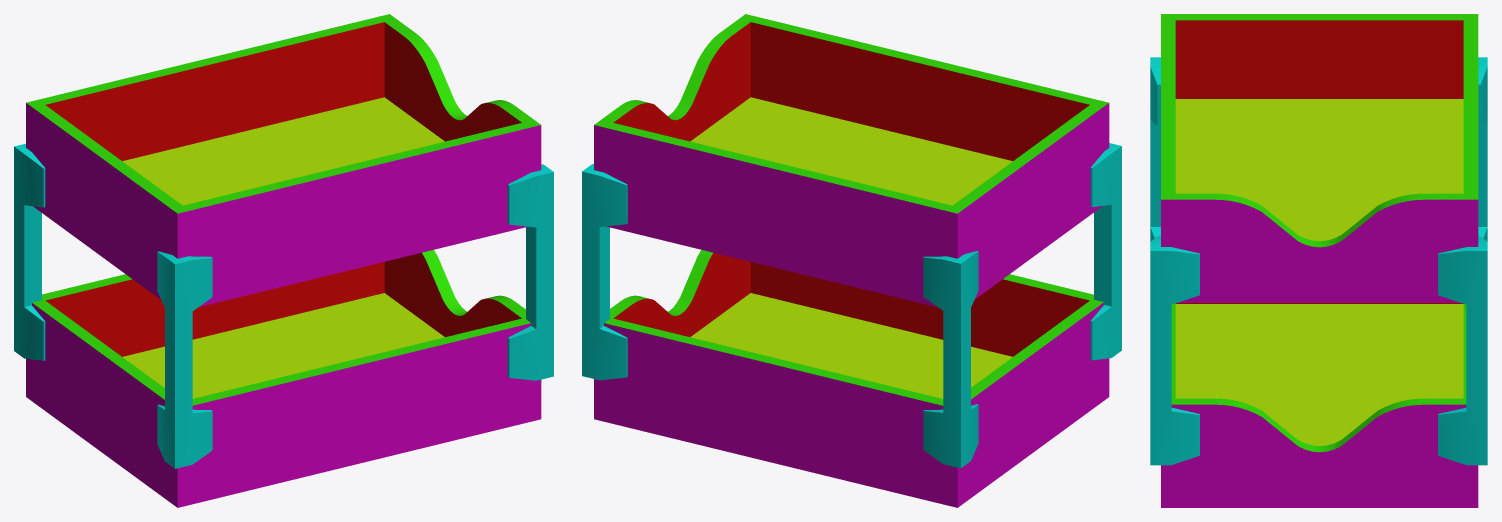
File: CT_PaperTray 1.fbx
3 views of the same model, side by side, from view 1: azimuth 30°, elevation 25°; view 2: azimuth 150°, elevation 25°; view 3: azimuth 270°, elevation 25° (orthographic). The views are drawn at different scales.
Visible parts, largest first — view 1: PaperTray-low; view 2: PaperTray-low; view 3: PaperTray-low.
Boxes of the visible parts, <box> form: PaperTray-low: <box>14,14,553,507</box>; PaperTray-low: <box>582,14,1121,507</box>; PaperTray-low: <box>1150,14,1487,507</box>.
Bounding box in the file's own units: 0.6458 × 0.4795 × 0.4756.
